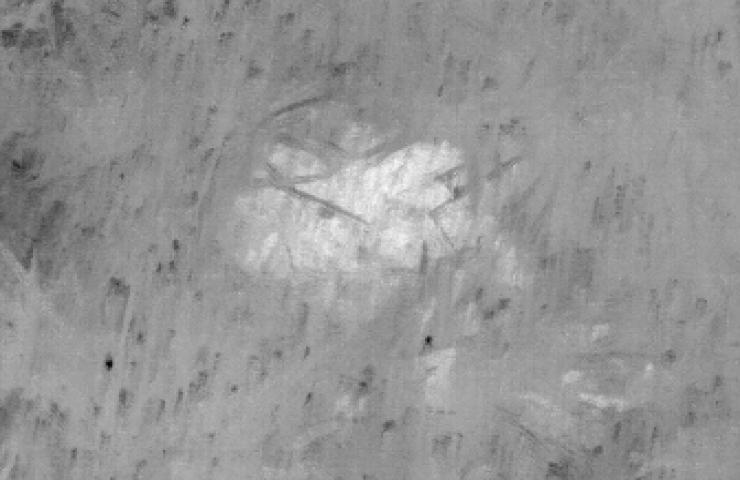landmines: (249, 139, 484, 278)
